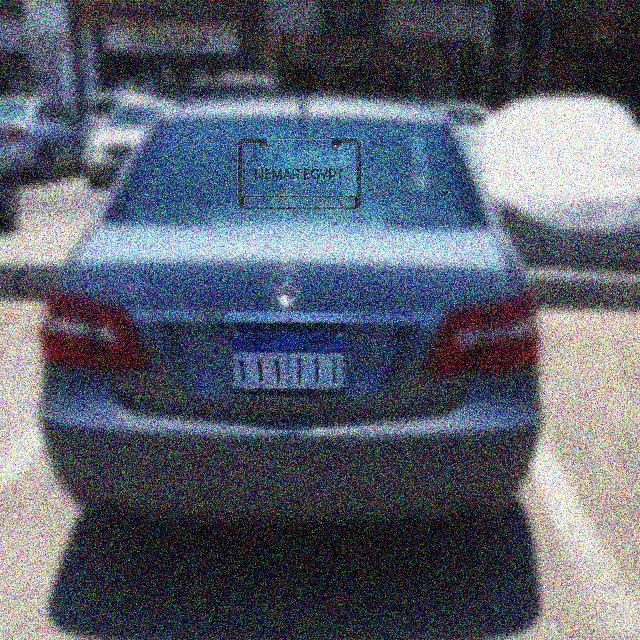License Plate: (228, 322, 349, 394)
